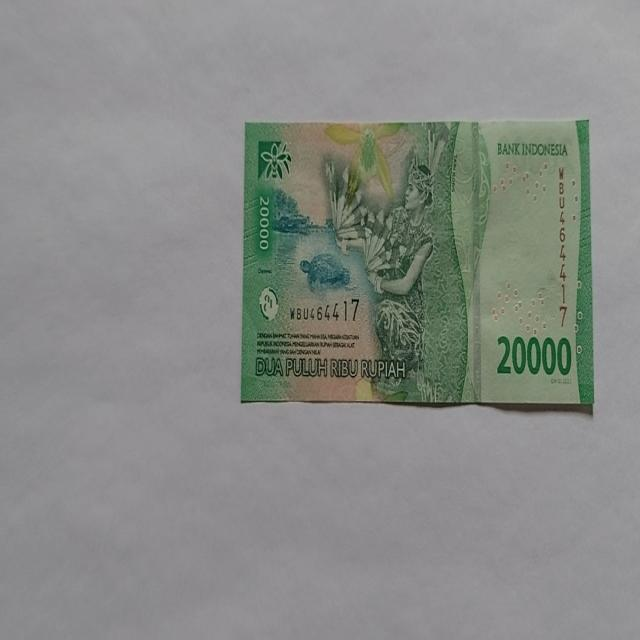dua puluh ribu rupiah: (240, 118, 594, 412)
